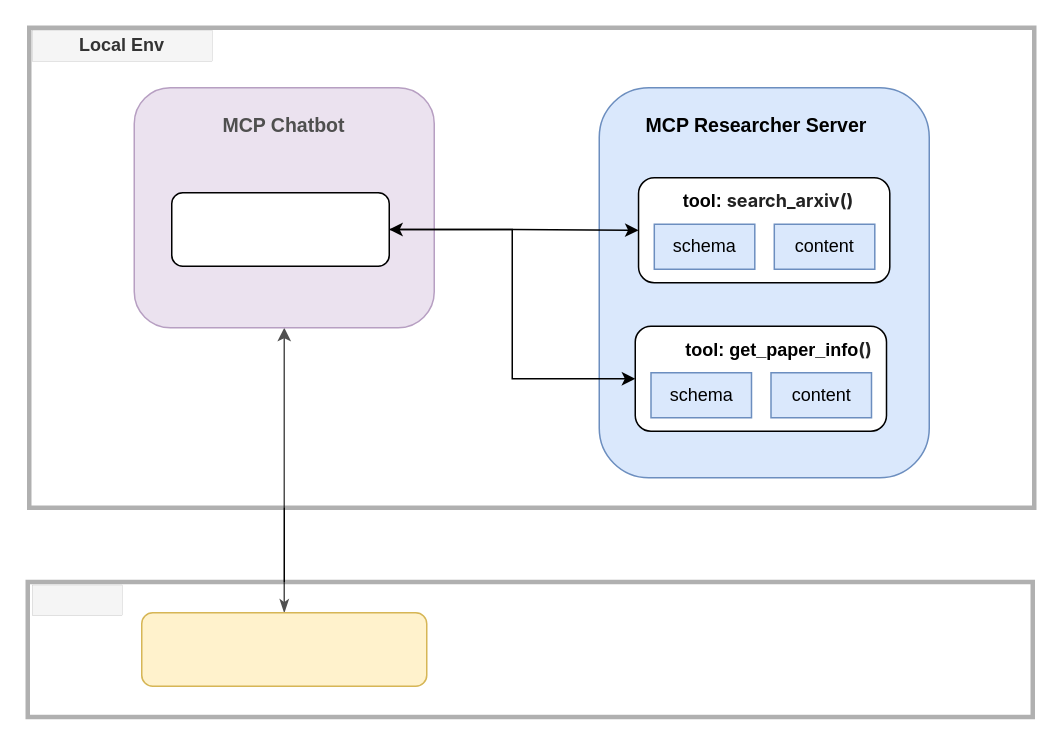
Image size: 1062x746. Some labels were removed from this diagram. The shapes that lost their labels are listed below. From the top down, each one's box as (x1, y1, x2, y2) in pixels, then its label:
(170, 191, 389, 266): Strand Agent
(32, 584, 122, 615): AWS
(140, 611, 427, 686): Bedrock LLM Model
